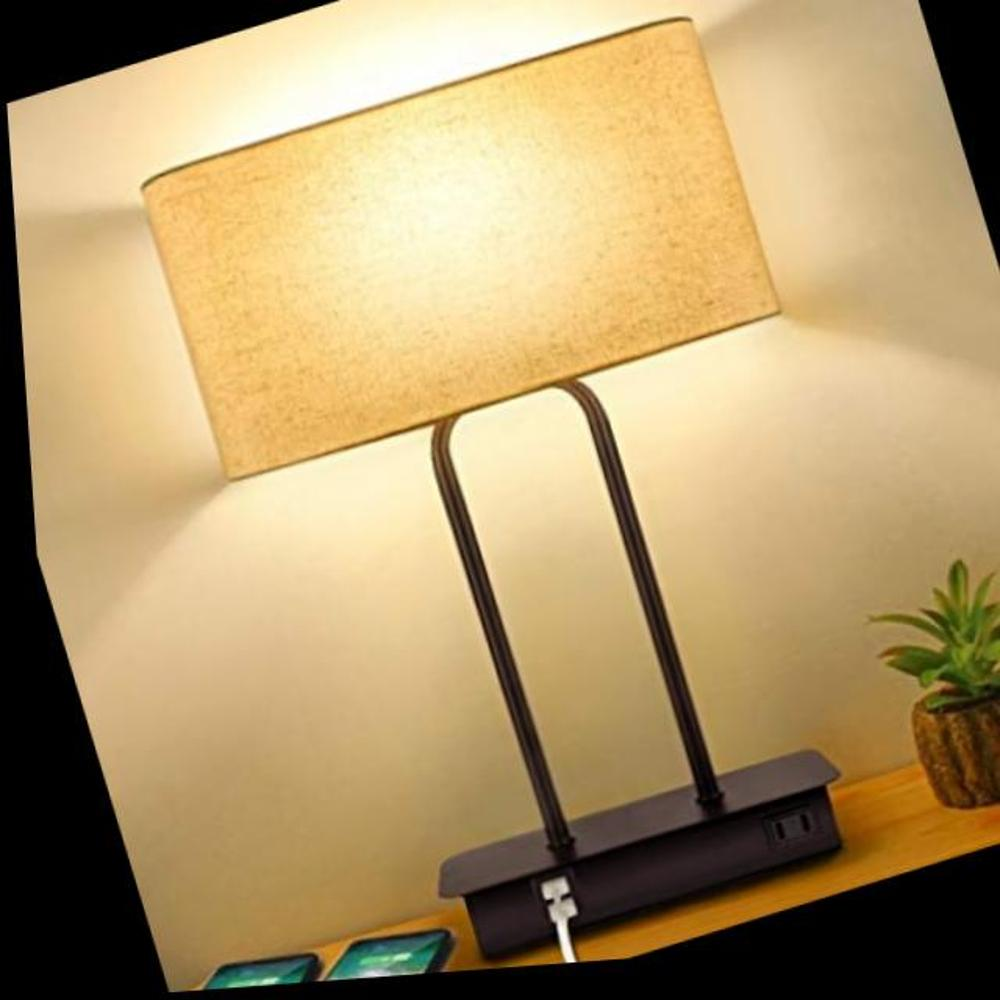shelf: (90, 0, 945, 995)
